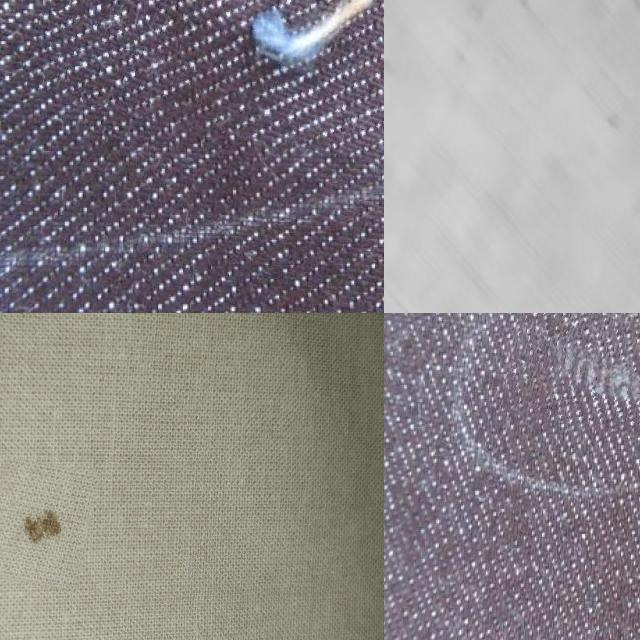Hole: (0, 458, 94, 589)
Thread_other: (36, 0, 384, 163), (504, 313, 640, 435)
